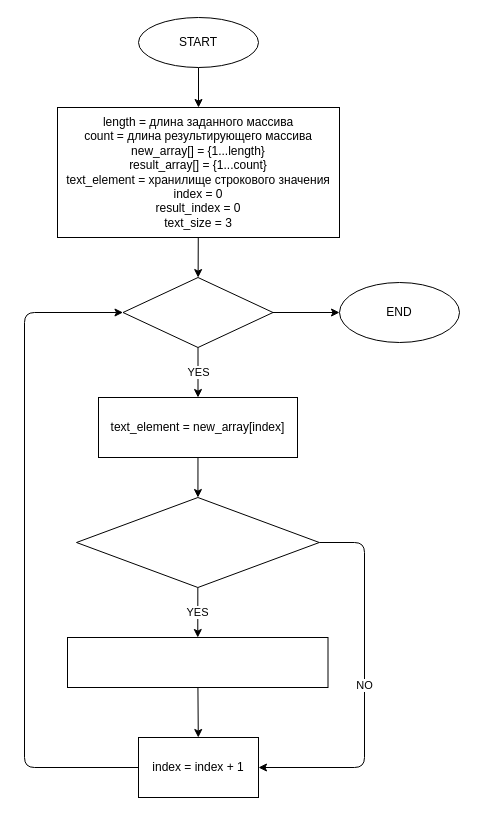
Some shapes in this 477 by 815 pixel diagram are drawn without their labels. Here are the shapes that lost their labels. From the top down, the box of each, then its label:
(122, 276, 273, 348): index < length
(76, 496, 319, 588): длина text_element <= text_size
(66, 636, 328, 688): result_array[ result_index ] = new_array[index] result_index = result_index + 1
